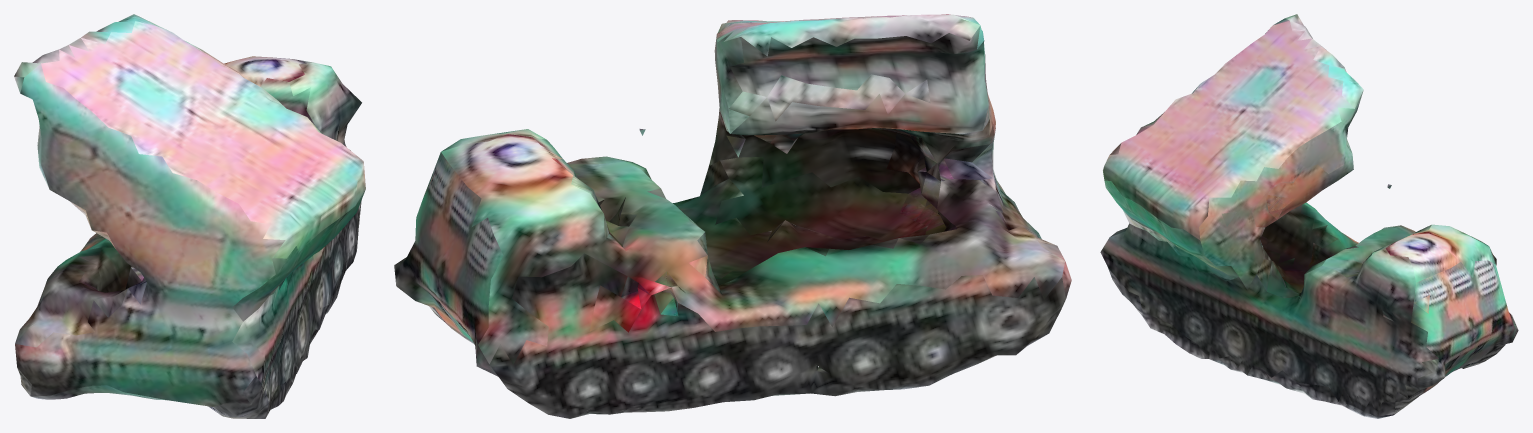
File: TANK_00004_.glb
The picture shows the model from 3 angles, left to right: view 1: azimuth 30°, elevation 25°; view 2: azimuth 150°, elevation 25°; view 3: azimuth 270°, elevation 25°; orthographic projection. The views are drawn at different scales.
Visible parts, largest first — view 1: world; view 2: world; view 3: world.
Part boxes in pixels (box(x1,y1,x2,y2)): world: box(14, 14, 365, 418); world: box(394, 14, 1071, 418); world: box(1100, 14, 1518, 418).
Size of the model in its own units: 0.9728 by 0.6856 by 0.9682.
Materials: 1 (1 with a texture image).
